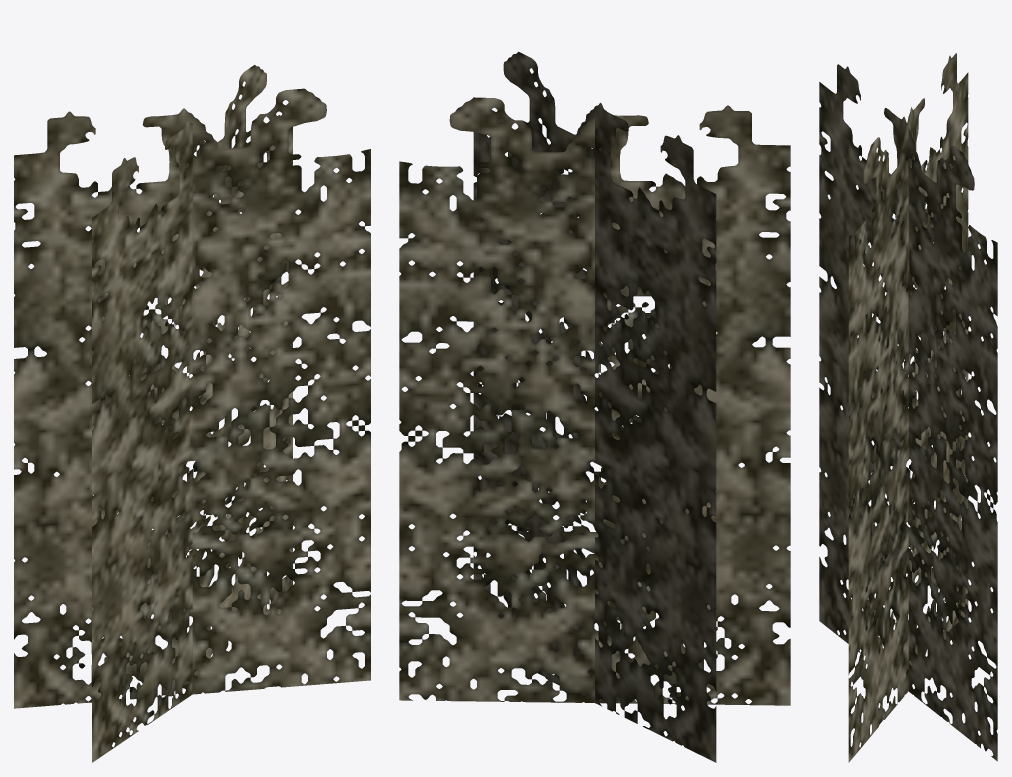
Rendered from bush_tall_half_overgrown_dead.fbx.
3 renders of one model, left to right at view 1: azimuth 30°, elevation 25°; view 2: azimuth 150°, elevation 25°; view 3: azimuth 270°, elevation 25°, orthographic. The views are drawn at different scales.
Parts seen in each view (by area): view 1: bush_tall_half_overgrown_dead; view 2: bush_tall_half_overgrown_dead; view 3: bush_tall_half_overgrown_dead.
Part boxes in pixels (<box>): bush_tall_half_overgrown_dead: <box>14,65,370,762</box>; bush_tall_half_overgrown_dead: <box>399,51,790,762</box>; bush_tall_half_overgrown_dead: <box>819,53,997,762</box>.
Size of the model in its own units: 105 by 206 by 54.93.
Materials: 1 (1 with a texture image).
